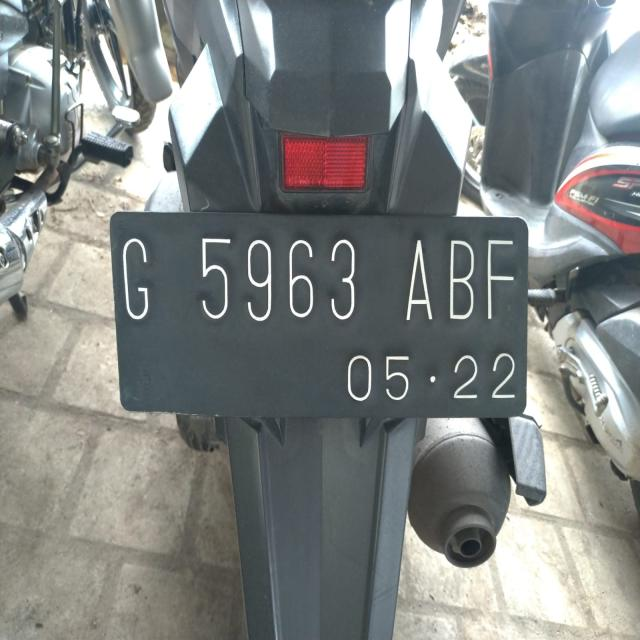plate: (110, 210, 528, 416)
